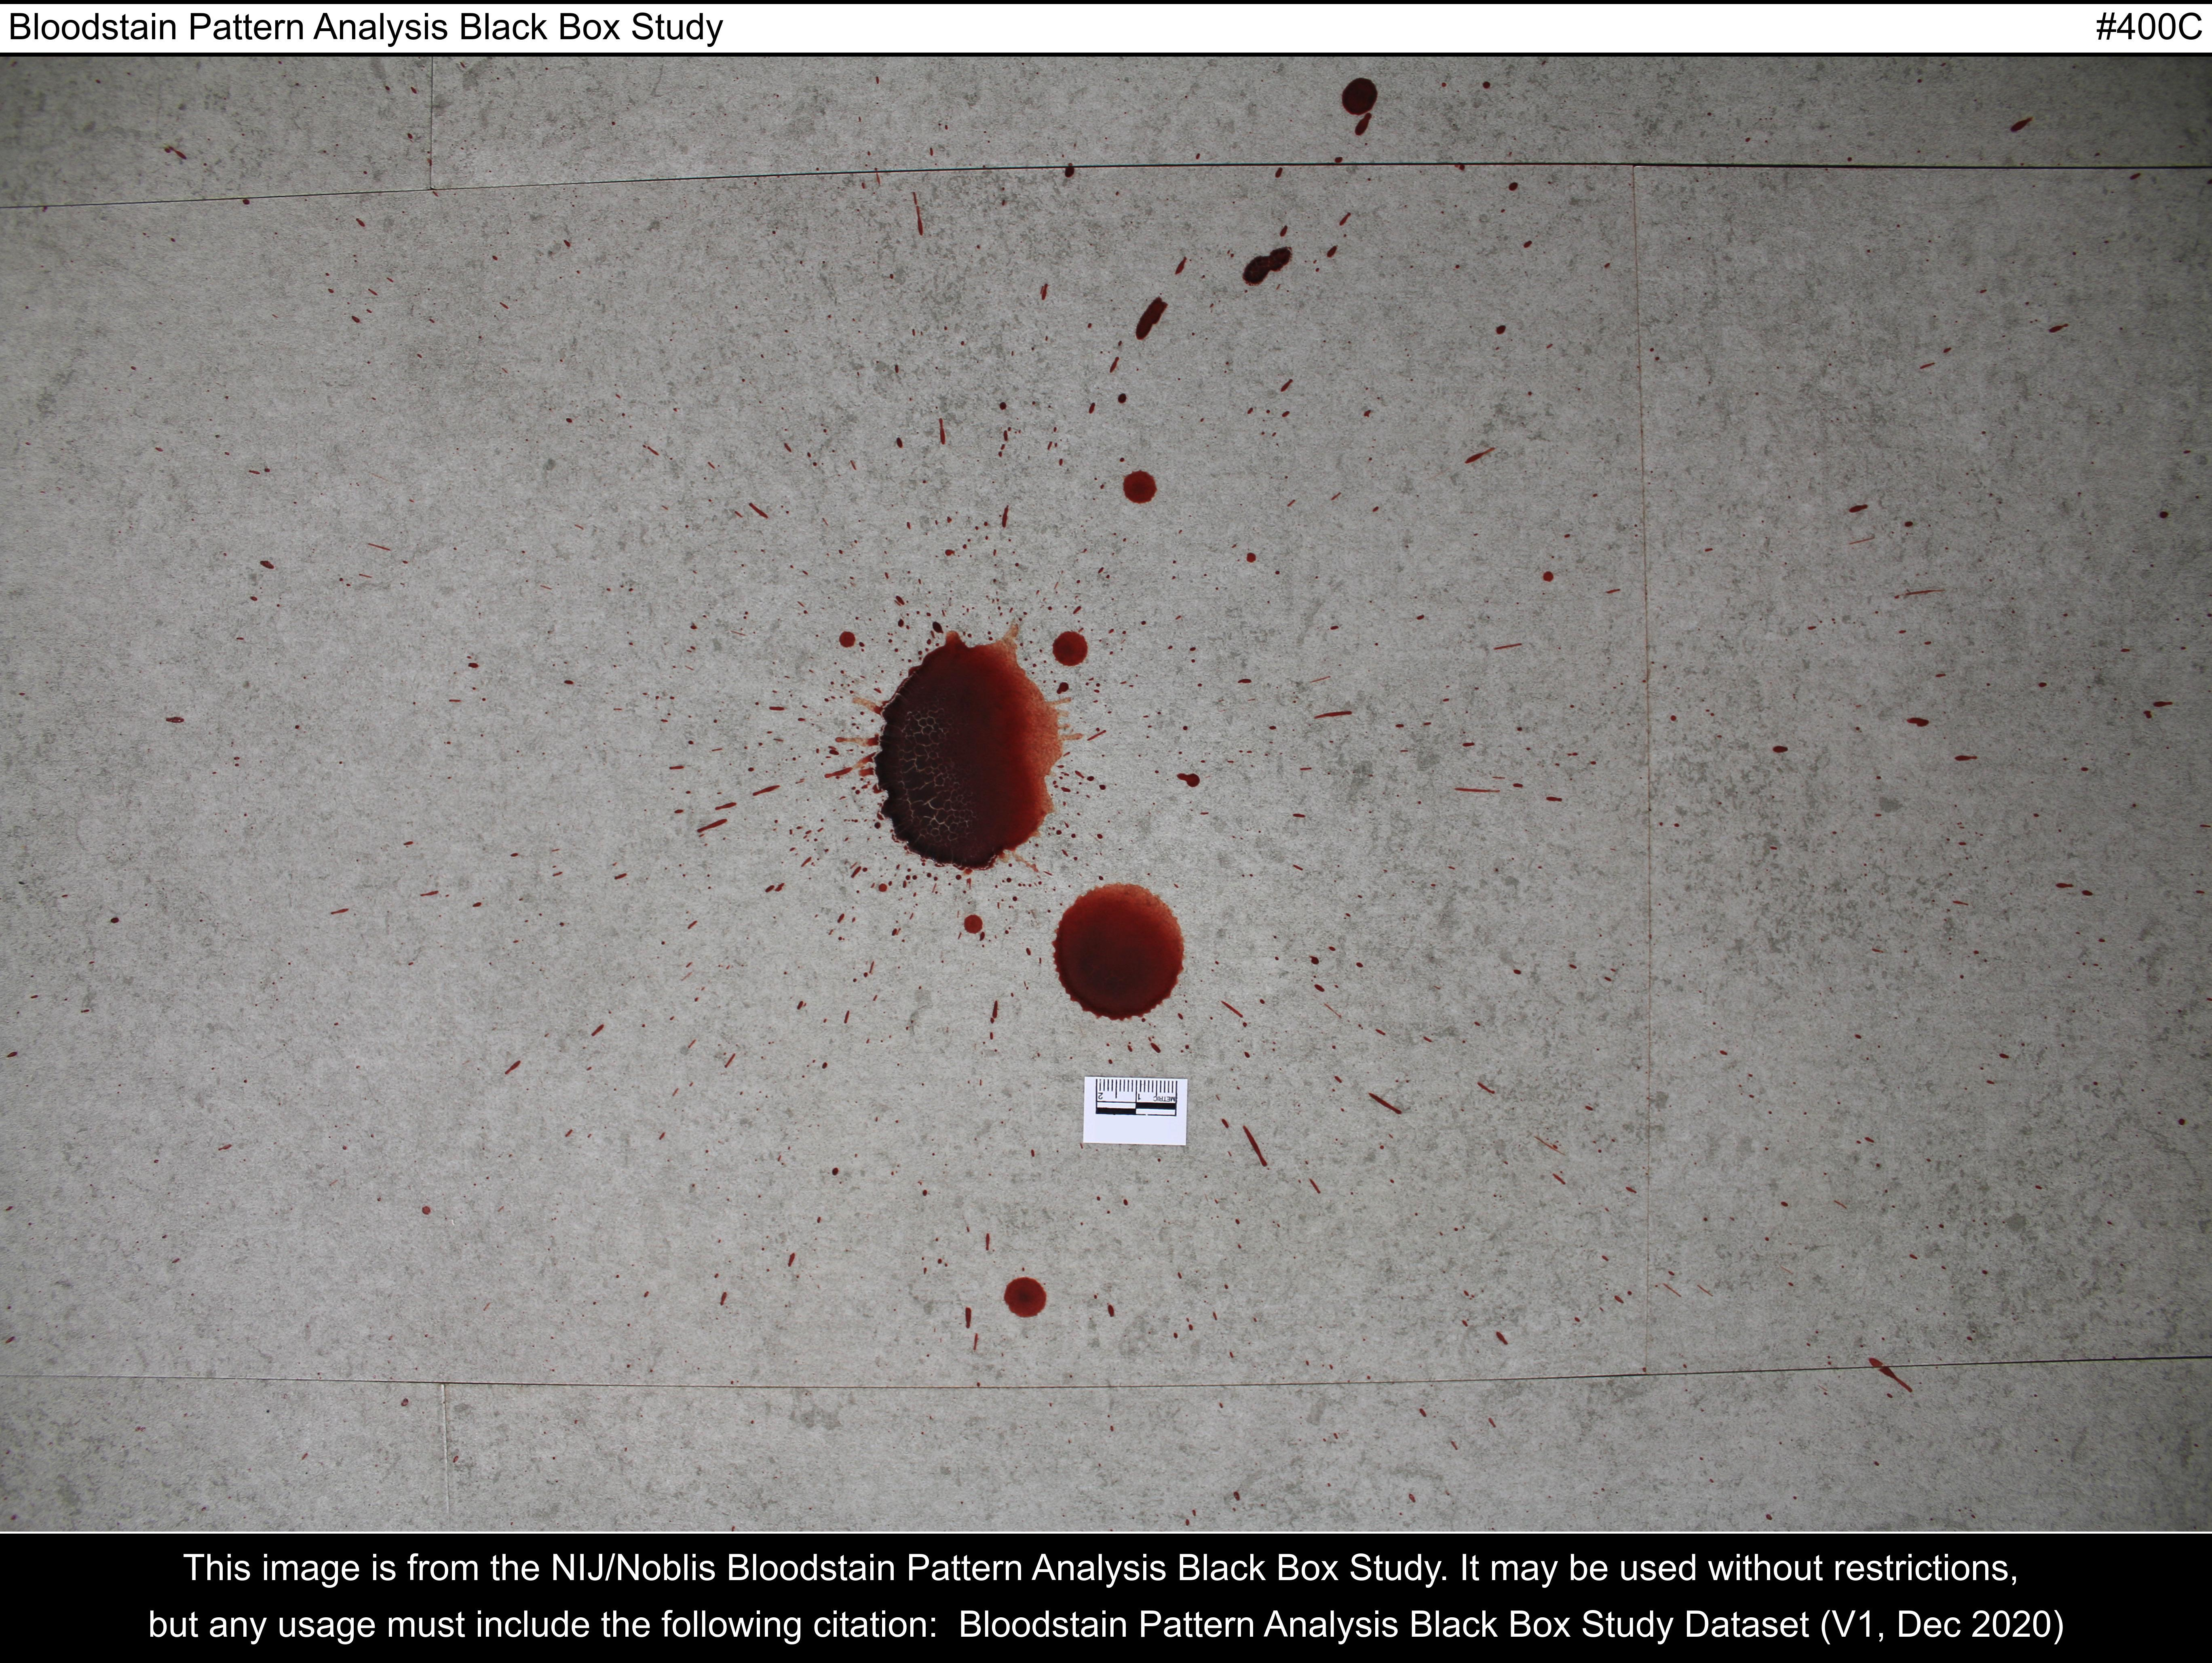Passive: (138, 56, 2001, 1436)
